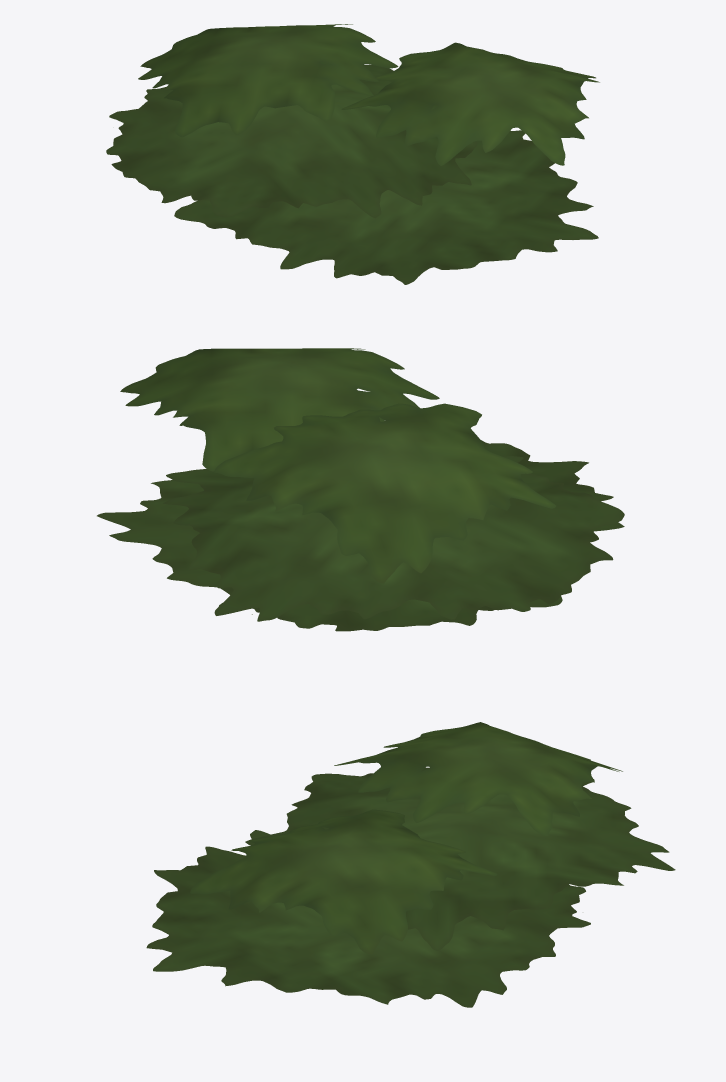
The model's file is Bush_01.fbx.
3 views of the same model, one above another, from view 1: azimuth 30°, elevation 25°; view 2: azimuth 150°, elevation 25°; view 3: azimuth 270°, elevation 25° (orthographic). The views are drawn at different scales.
Parts seen in each view (by area): view 1: Bush_01; view 2: Bush_01; view 3: Bush_01.
Part boxes in pixels (<box>): Bush_01: <box>106,24,599,284</box>; Bush_01: <box>97,348,624,631</box>; Bush_01: <box>146,722,675,1007</box>.
Size of the model in its own units: 207 by 43.28 by 208.
1 material, 1 textured.
